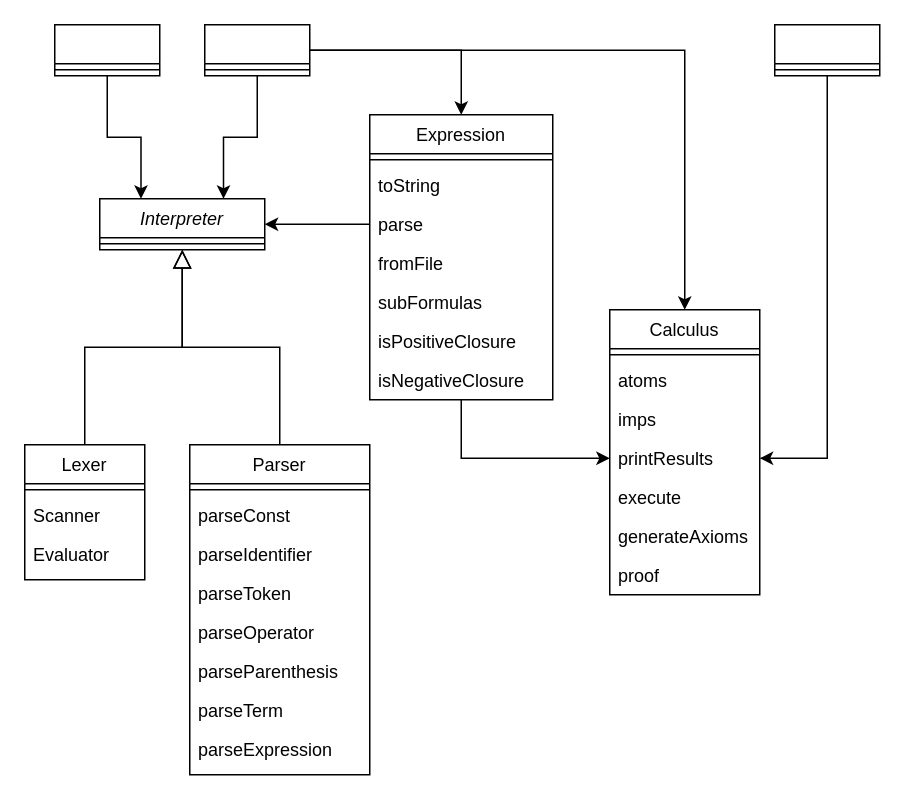
This 905x800 diagram has some shape labels left out. The shapes that lost their labels are listed below. From the top down, each one's centre as x and y in pixels, then its label:
At point (106, 49): "Token".
At point (256, 49): "Formula".
At point (826, 49): "Rule".
